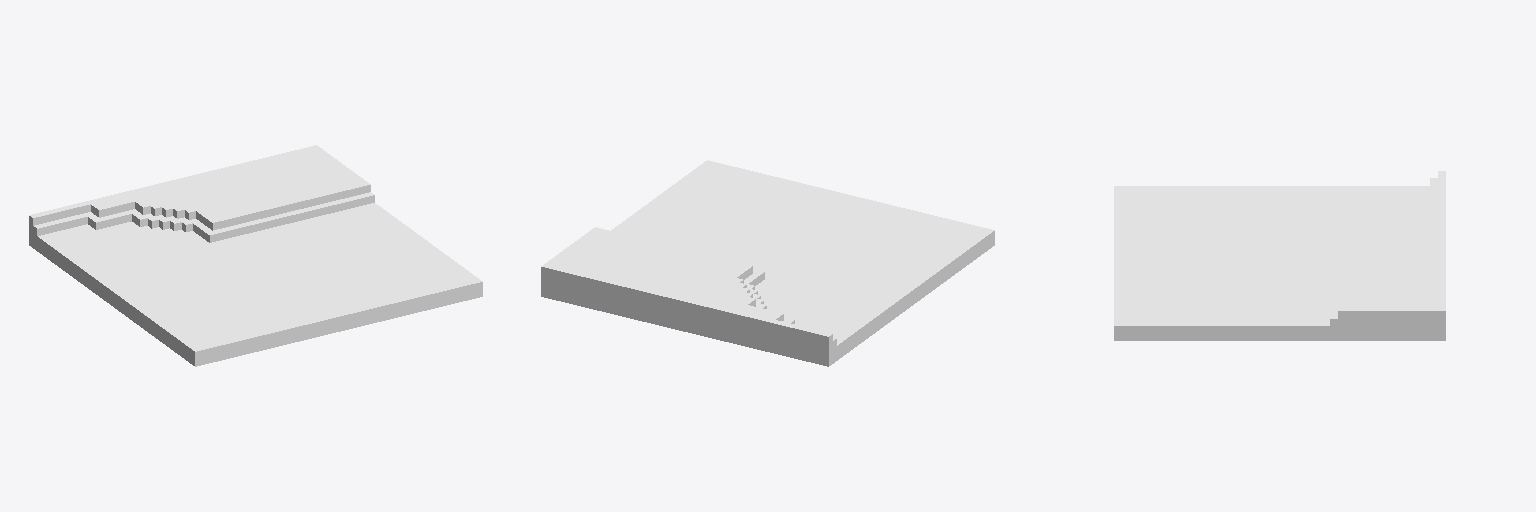
File: teste-0.obj
3 views of the same model, side by side, from view 1: azimuth 30°, elevation 25°; view 2: azimuth 150°, elevation 25°; view 3: azimuth 270°, elevation 25° (orthographic).
Parts seen in each view (by area): view 1: object 1; view 2: object 1; view 3: object 1.
Part boxes in pixels (left/top/right/bottom): object 1: left=29, top=145, right=482, bottom=366; object 1: left=541, top=160, right=994, bottom=366; object 1: left=1114, top=171, right=1445, bottom=340.
Size of the model in its own units: 4 by 0.4 by 4.